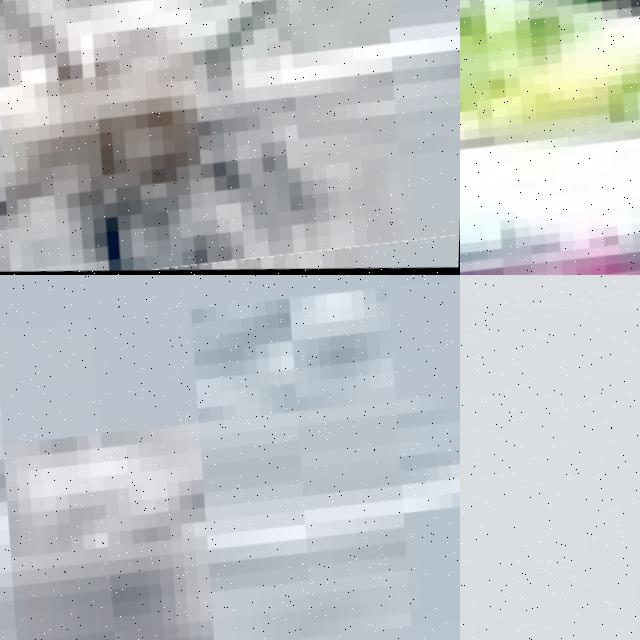0: (0, 275, 460, 640), (0, 0, 460, 275)
drone: (460, 0, 640, 275)
